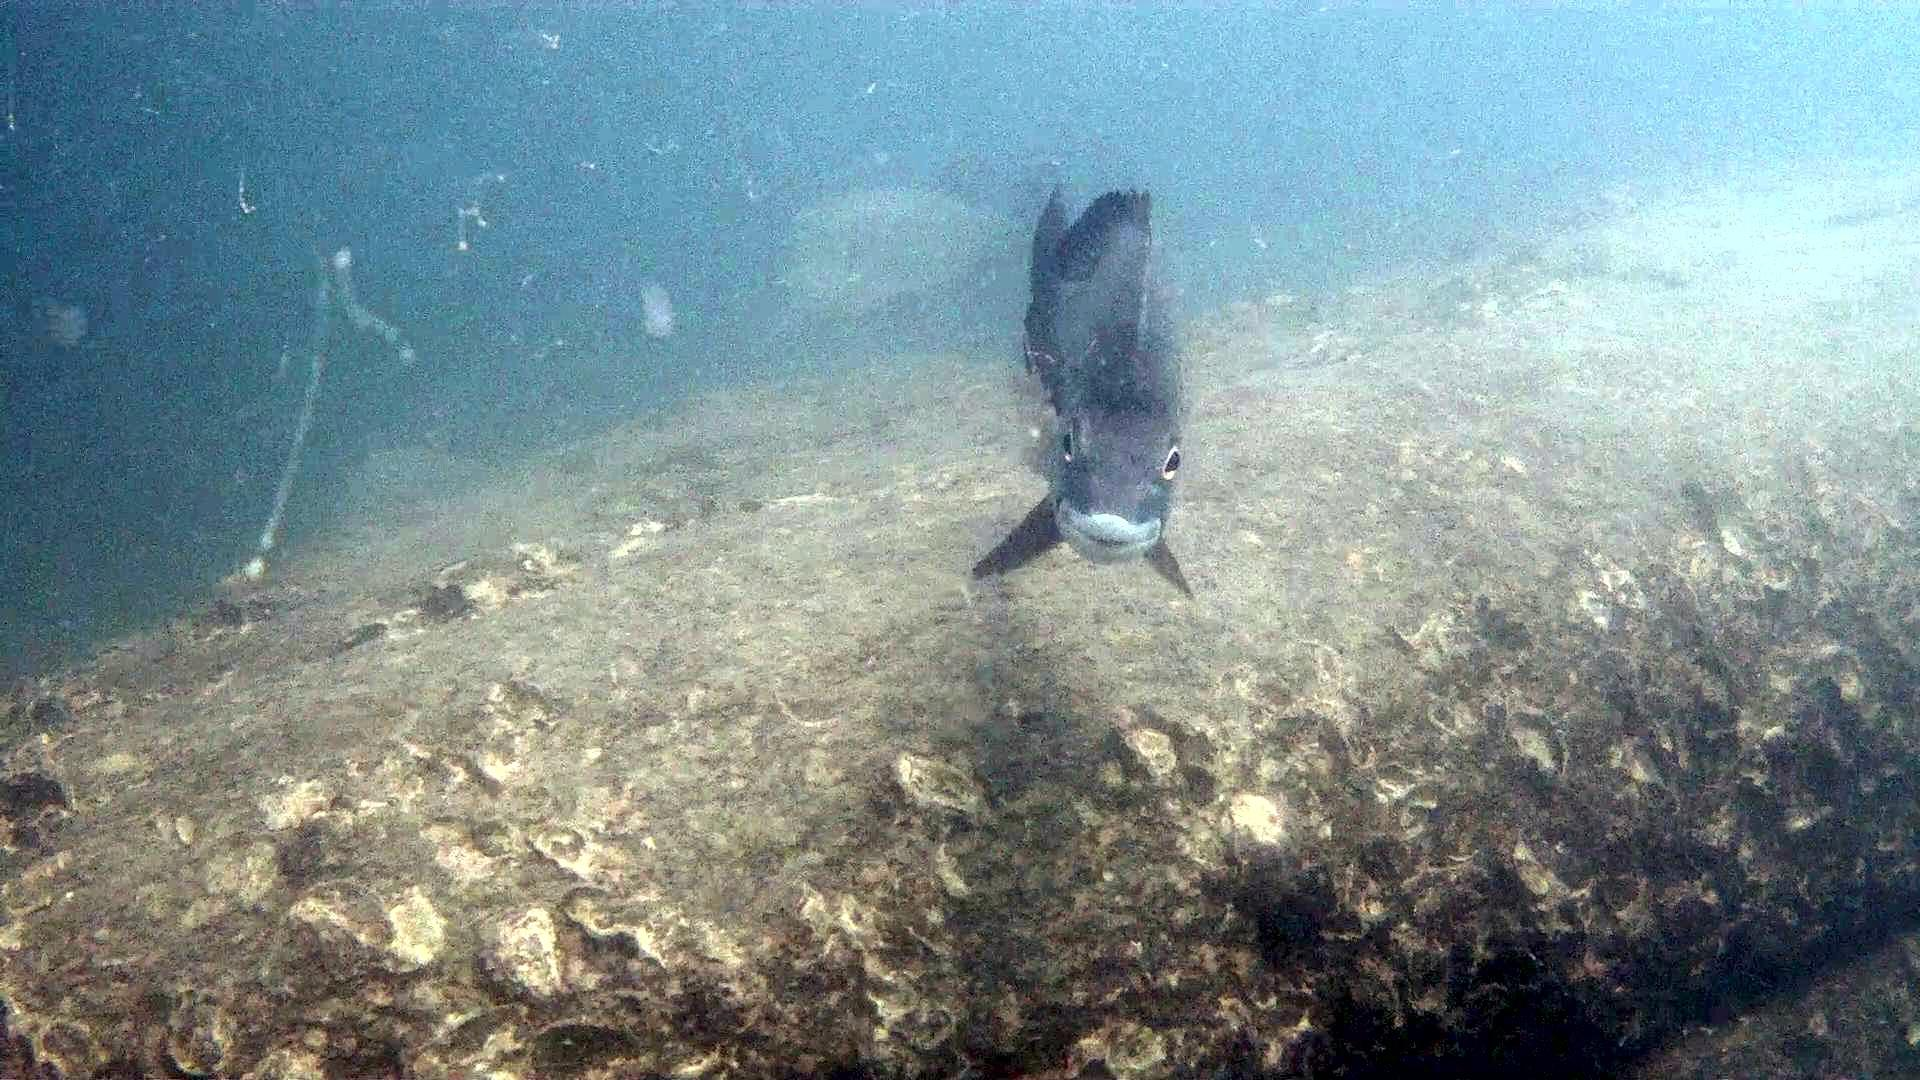acanthopagrus palmaris: (956, 161, 1205, 615)
